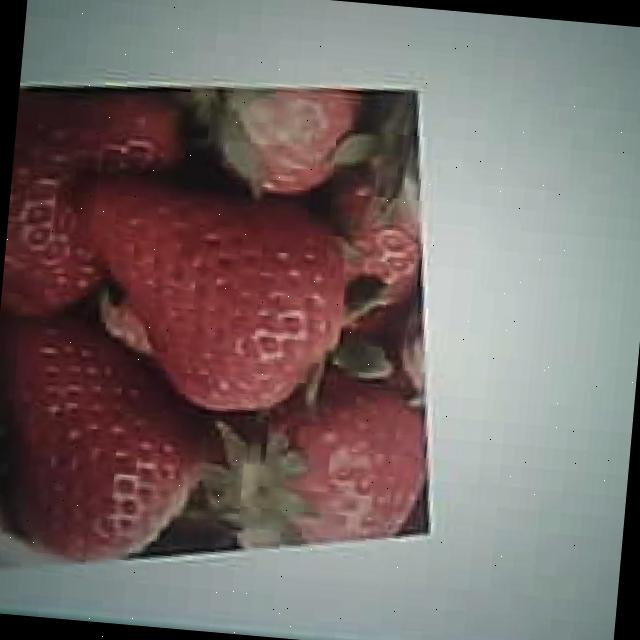strawberry: (63, 176, 351, 420), (0, 321, 218, 569)
